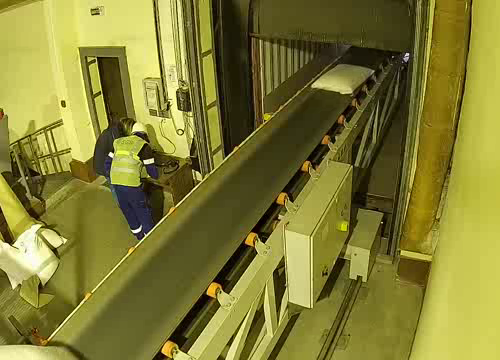bag: (308, 62, 378, 99), (0, 341, 85, 360)
